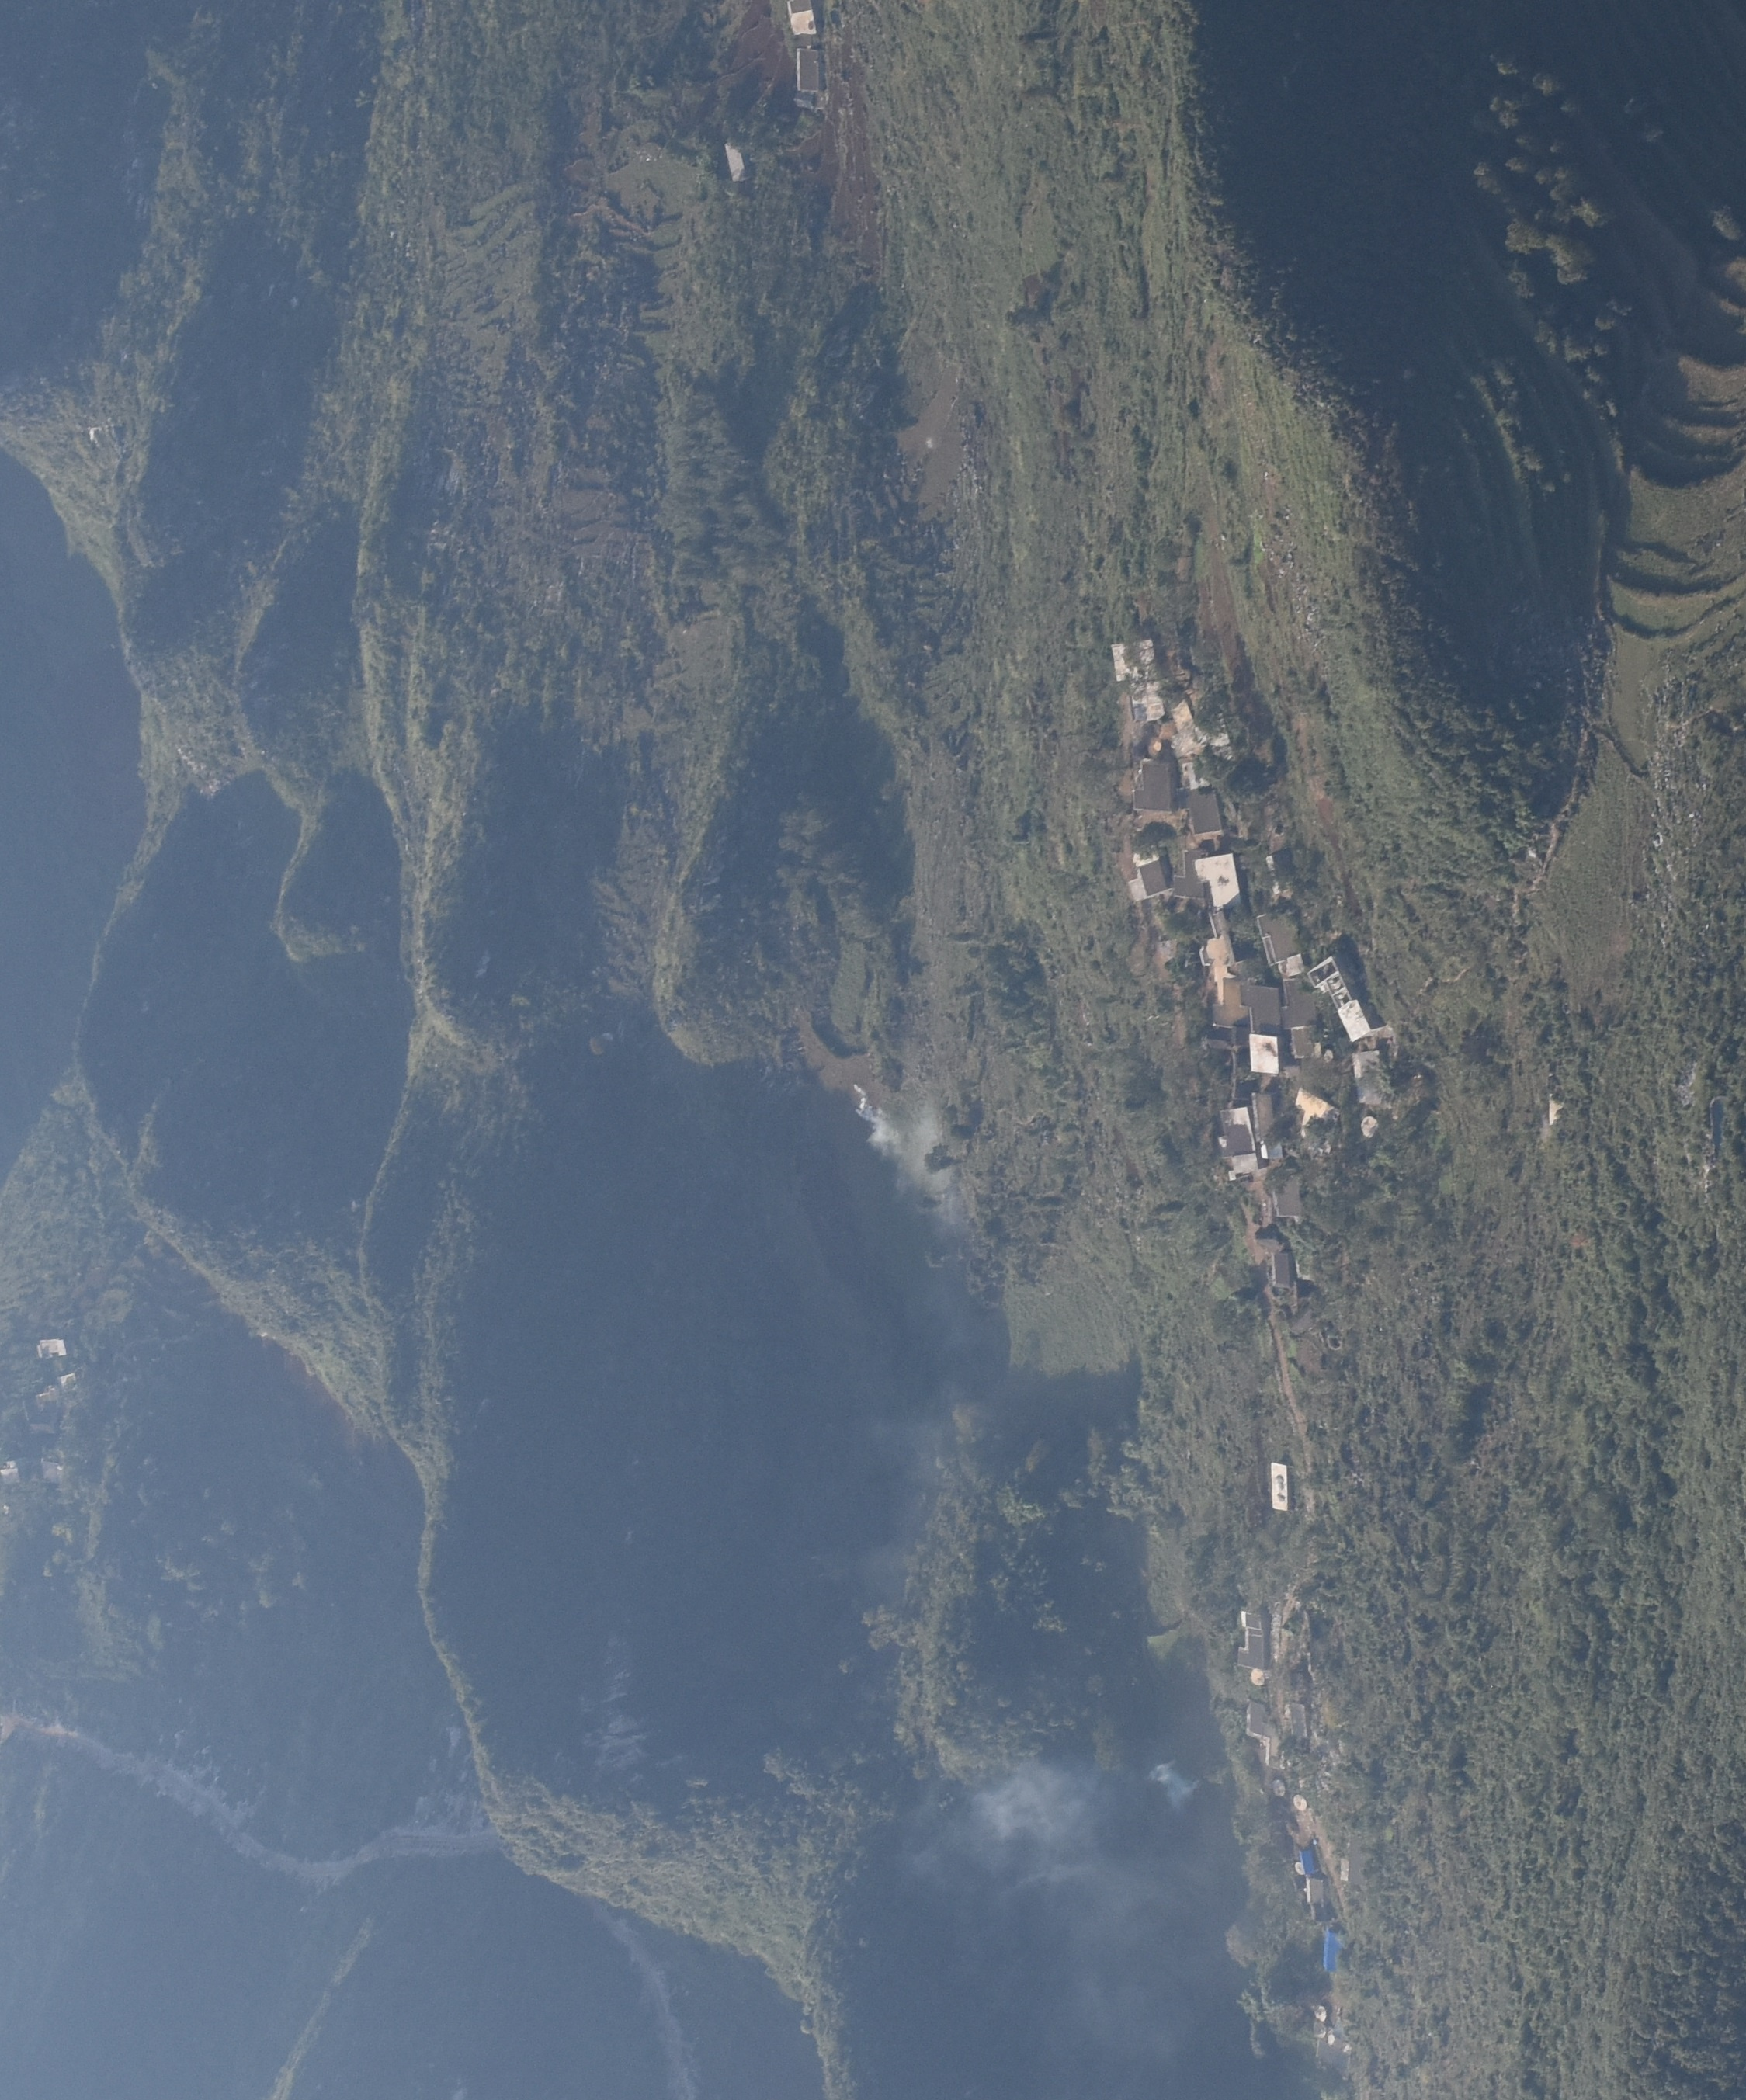building: (1200, 940, 1280, 1034), (1310, 958, 1371, 1038), (1174, 846, 1242, 909), (1258, 907, 1305, 975), (1282, 978, 1319, 1057), (1181, 764, 1223, 832), (1221, 1106, 1258, 1179), (1251, 1090, 1287, 1158), (1244, 1699, 1280, 1767), (1130, 759, 1174, 811), (1294, 1087, 1340, 1135), (21, 1385, 63, 1434), (1170, 699, 1209, 752), (1354, 1050, 1390, 1104), (1109, 638, 1156, 680), (1235, 1612, 1265, 1669), (1136, 849, 1172, 895), (795, 47, 822, 106), (1125, 680, 1163, 720), (1272, 1172, 1303, 1217), (1249, 1034, 1280, 1076), (1268, 1462, 1291, 1512), (787, 2, 818, 35), (726, 140, 748, 181), (1272, 1251, 1294, 1287), (37, 1336, 68, 1359), (0, 1456, 21, 1488), (1305, 1877, 1326, 1908), (37, 1462, 63, 1483), (61, 1374, 78, 1395), (1338, 1856, 1350, 1878)
prefabricated-house: (1320, 1927, 1343, 1973), (1298, 1847, 1315, 1875)
well: (1361, 1118, 1380, 1137), (1268, 1779, 1286, 1798), (1291, 1793, 1308, 1810), (1310, 2022, 1327, 2037), (1251, 1669, 1266, 1685), (1313, 2006, 1327, 2020), (1294, 1859, 1305, 1875)
